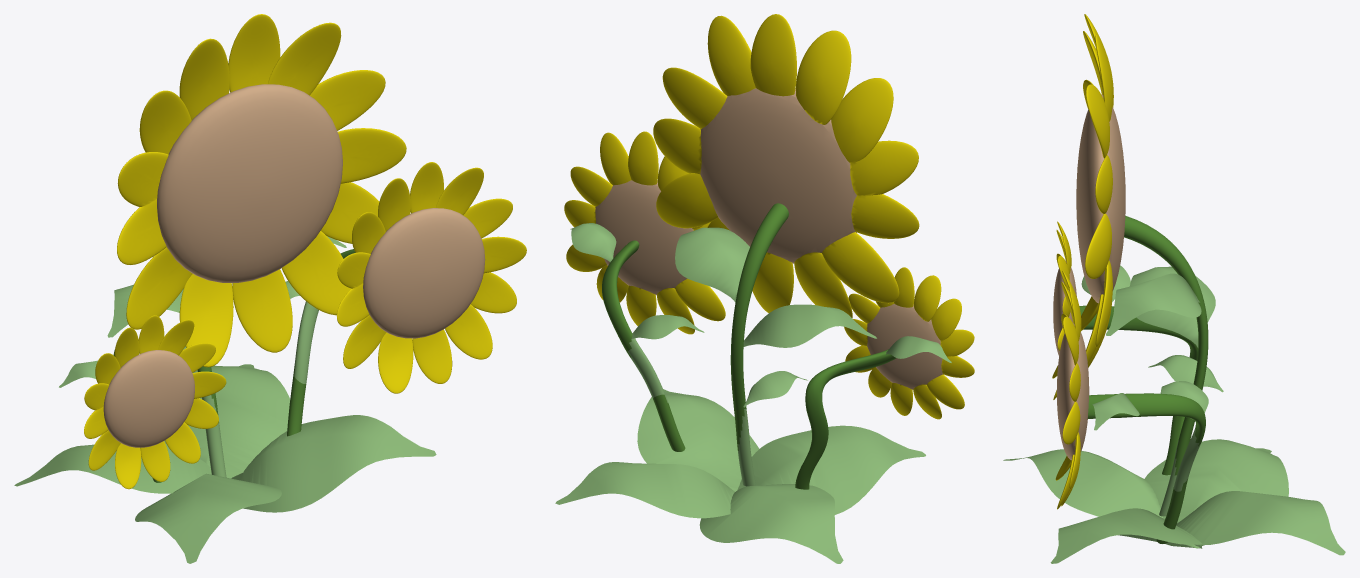
Rendered from bunga.fbx.
3 renders of one model, left to right at view 1: azimuth 30°, elevation 25°; view 2: azimuth 150°, elevation 25°; view 3: azimuth 270°, elevation 25°, orthographic. The views are drawn at different scales.
Parts seen in each view (by area): view 1: group17_pasted__group11_pasted__pasted__group3_pasted__paste, polySurface29, pasted__pPlane1, polySurface30; view 2: group17_pasted__group11_pasted__pasted__group3_pasted__paste, pasted__pPlane1, polySurface29, polySurface30, pasted__pasted__pasted__pasted__pasted__pasted__pPlane1; view 3: pasted__pPlane1, group17_pasted__group11_pasted__pasted__group3_pasted__paste, polySurface29, polySurface30, pasted__pasted__pasted__pasted__pasted__pasted__pPlane1.
Boxes of the visible parts, <box> form: group17_pasted__group11_pasted__pasted__group3_pasted__paste: <box>107,14,406,477</box>; polySurface29: <box>285,162,526,436</box>; pasted__pPlane1: <box>14,364,436,563</box>; polySurface30: <box>59,315,226,489</box>; group17_pasted__group11_pasted__pasted__group3_pasted__paste: <box>653,14,919,486</box>; pasted__pPlane1: <box>555,389,925,563</box>; polySurface29: <box>564,131,725,451</box>; polySurface30: <box>795,267,974,489</box>; pasted__pasted__pasted__pasted__pasted__pasted__pPlane1: <box>743,371,807,407</box>; pasted__pPlane1: <box>1003,439,1345,563</box>; group17_pasted__group11_pasted__pasted__group3_pasted__paste: <box>1076,14,1215,516</box>; polySurface29: <box>1055,270,1208,543</box>; polySurface30: <box>1052,221,1198,475</box>; pasted__pasted__pasted__pasted__pasted__pasted__pPlane1: <box>1148,355,1223,392</box>.
Size of the model in its own units: 3.82 by 4.24 by 2.59.
